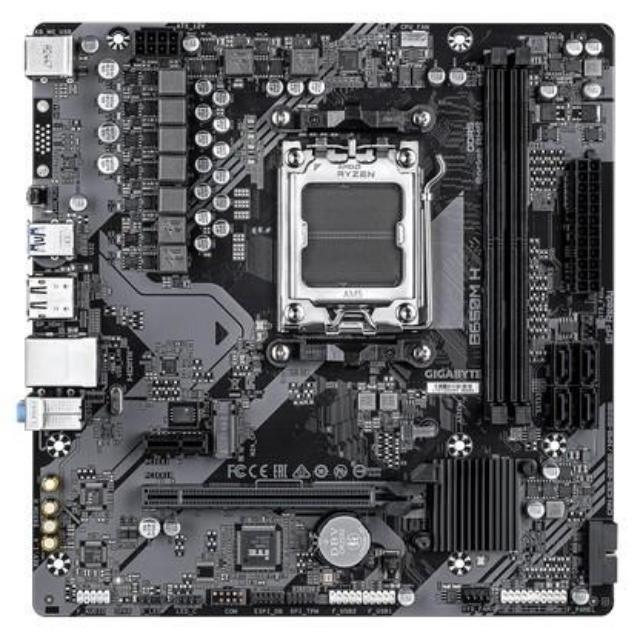Mainboard: (22, 11, 620, 622)
